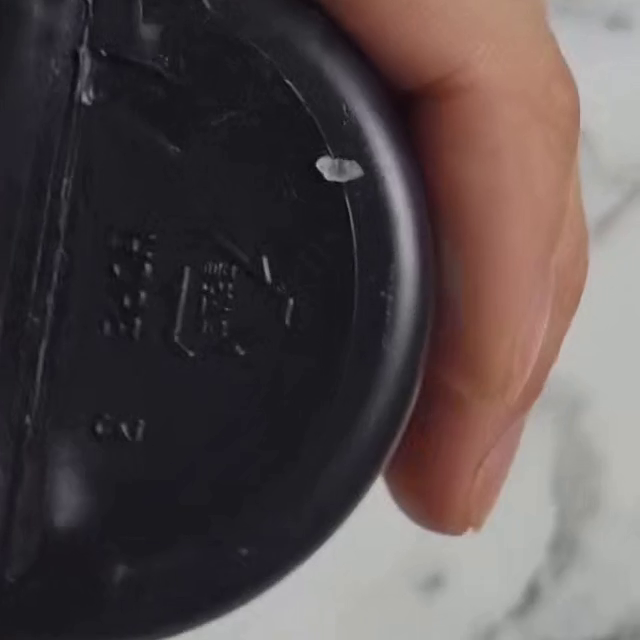Plastic: (161, 233, 295, 370)
